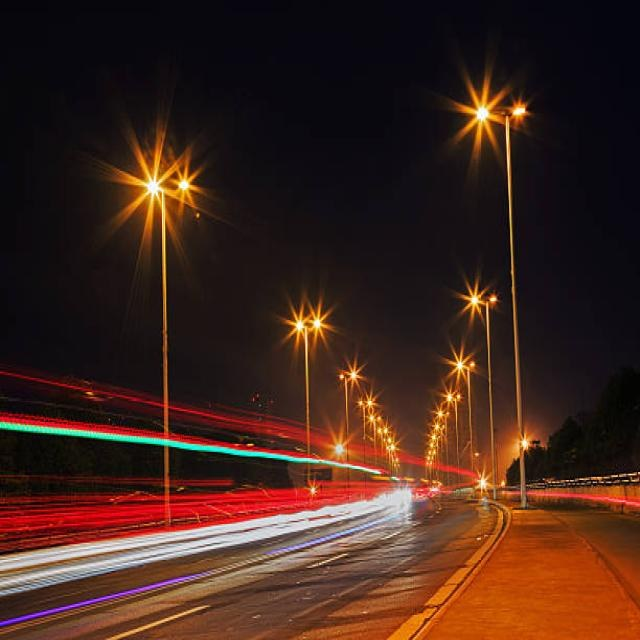acesa: (90, 103, 214, 257), (435, 57, 526, 165), (279, 296, 335, 350), (439, 331, 482, 396), (453, 276, 496, 326), (340, 360, 366, 394)
